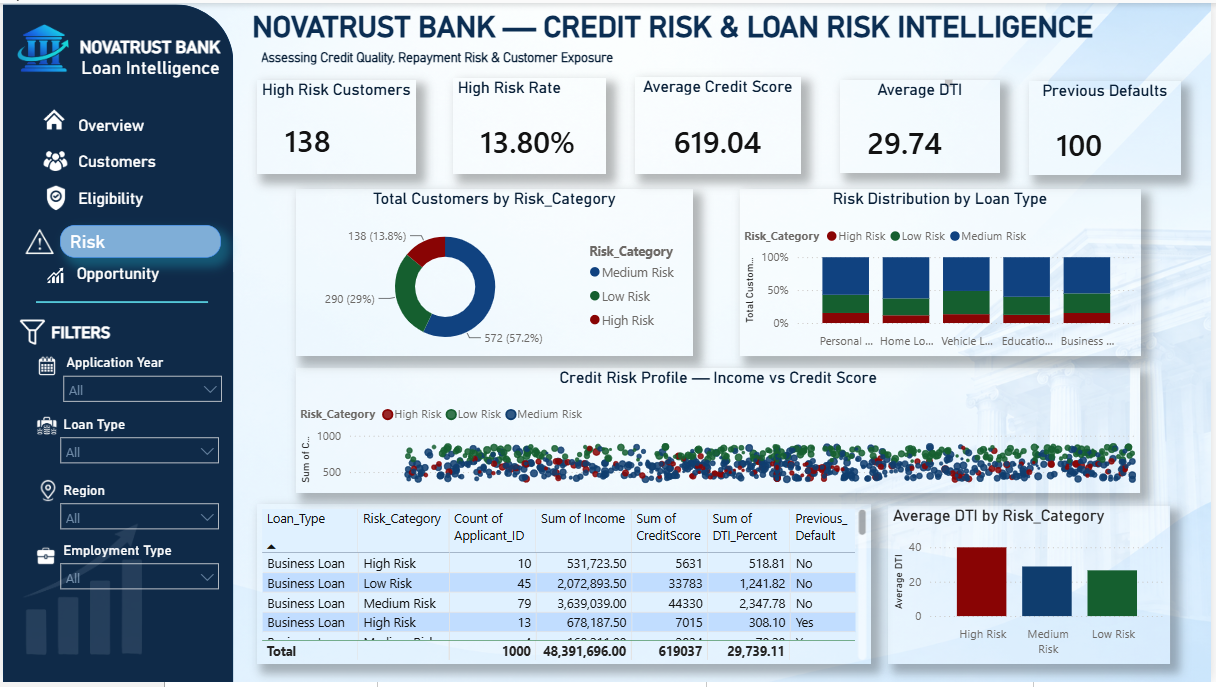

This screenshot's page, from the dashboard's own definition file:
{"tool":"powerbi","page":{"name":"Credit Risk & Loan Risk Intelligence","canvas":[1280,720],"ordinal":3},"visuals":[{"type":"shape","box":[0,0.8,244.2,719.2],"z":0},{"type":"image","box":[9.5,20.7,63.6,55.7],"z":1000},{"type":"textbox","title":"NOVATRUST BANK","box":[73.2,36.6,165.4,20.7],"z":2000},{"type":"textbox","title":"Loan Intelligence","box":[60.4,57.3,192,42.1],"z":3000},{"type":"image","box":[43.1,108.5,22.7,30.8],"z":4000},{"type":"textbox","title":"Risk","box":[59.7,235.5,170.9,34.8],"z":5000},{"type":"image","box":[43.1,153.2,25.5,30.3],"z":6000},{"type":"textbox","title":"Overview","box":[74.5,119.8,155.4,19.4],"z":7000},{"type":"image","box":[38.2,190.8,36.5,33.2],"z":8000},{"type":"textbox","title":"Customers","box":[75,157.9,151.1,25.4],"z":9000},{"type":"image","box":[23.2,235.5,29.9,34.8],"z":10000},{"type":"textbox","title":"Eligibility","box":[74.6,197.4,179.7,25.4],"z":11000},{"type":"image","box":[33.4,275.2,44.5,27],"z":12000},{"type":"textbox","title":"Opportunity","box":[73.2,276.8,147.9,25.4],"z":13000},{"type":"shape","box":[34.8,301.9,182.5,29.9],"z":14000},{"type":"image","box":[16.7,335,30,26.7],"z":15000},{"type":"textbox","title":"FILTERS","box":[46.1,338.8,187.7,28.6],"z":16000},{"type":"image","box":[35,373.3,23.3,21.7],"z":17000},{"type":"slicer","title":"Application Year","fields":{"Values":["Loan_Applications.Application_Date"]},"box":[54.1,367.4,187.7,65.2],"z":18000},{"type":"image","box":[23.3,433.3,45,35],"z":19000},{"type":"slicer","fields":{"Values":["Loan_Applications.Loan_Type"]},"box":[50.9,432.6,187.7,70],"z":20000},{"type":"slicer","fields":{"Values":["Loan_Applications.Region"]},"box":[50.9,502.6,187.7,62],"z":21000},{"type":"slicer","fields":{"Values":["Loan_Applications.Employment_Type"]},"box":[50.9,566.3,187.7,68.4],"z":22000},{"type":"image","box":[31.7,503.3,31.7,28.3],"z":23000},{"type":"image","box":[11.7,553.3,68.4,65.2],"z":24000},{"type":"image","box":[0,518.5,162.7,201],"z":25000},{"type":"textbox","title":" NOVATRUST BANK — CREDIT RISK & LOAN RISK INTELLIGENCE","box":[259.3,6.4,1021.2,50.9],"z":26000},{"type":"textbox","title":"Assessing Credit Quality, Repayment Risk & Customer Exposure","box":[268.8,49.3,742.8,44.5],"z":27000},{"type":"cardVisual","title":"High Risk Rate","fields":{"Data":["Loan_Applications.High Risk Rate"]},"box":[476.5,79.7,162.7,102.1],"z":28000},{"type":"cardVisual","title":"High Risk Customers","fields":{"Data":["Loan_Applications.High Risk Customers"]},"box":[268.8,81.1,169.1,100.5],"z":29000},{"type":"cardVisual","title":"Average Credit Score","fields":{"Data":["Loan_Applications.Average Credit Score"]},"box":[669.6,77.9,176.6,103.4],"z":30000},{"type":"cardVisual","title":"Average DTI","fields":{"Data":["Loan_Applications.Average DTI"]},"box":[887.4,81.5,169.1,98.9],"z":31000},{"type":"cardVisual","title":"Previous Defaults","fields":{"Data":["Loan_Applications.Previous Default Customers"]},"box":[1088,82.7,160.7,100.2],"z":32000},{"type":"donutChart","fields":{"Category":["Loan_Applications.Risk_Category"],"Y":["Loan_Applications.Total Customers"]},"box":[310,196.6,421.6,177.1],"z":33000},{"type":"hundredPercentStackedColumnChart","title":"Risk Distribution by Loan Type","fields":{"Category":["Loan_Applications.Loan_Type"],"Y":["Loan_Applications.Total Customers"],"Series":["Loan_Applications.Risk_Category"]},"box":[781.1,196.6,425.1,177.1],"z":34000},{"type":"scatterChart","title":"Credit Risk Profile — Income vs Credit Score","fields":{"X":["Sum(Loan_Applications.Income)"],"Y":["Sum(Loan_Applications.CreditScore)"],"Series":["Loan_Applications.Risk_Category"],"Category":["Loan_Applications.Applicant_ID"],"Size":["Sum(Loan_Applications.LoanAmount)"]},"box":[310,386.1,896.2,132.8],"z":35000},{"type":"clusteredColumnChart","fields":{"Category":["Loan_Applications.Risk_Category"],"Y":["Loan_Applications.Average DTI"]},"box":[938.8,533.1,299.3,168.3],"z":36000},{"type":"tableEx","fields":{"Values":["Loan_Applications.Loan_Type","Loan_Applications.Risk_Category","CountNonNull(Loan_Applications.Applicant_ID)","Sum(Loan_Applications.Income)","Sum(Loan_Applications.CreditScore)","Sum(Loan_Applications.DTI_Percent)","Loan_Applications.Previous_Default"]},"box":[269.2,531.4,651.8,170],"z":37000},{"type":"actionButton","box":[69.1,267.5,145.2,40.7],"z":38000},{"type":"actionButton","box":[67.3,187.8,147,40.7],"z":39000},{"type":"actionButton","box":[67.3,147,163,40.7],"z":40000},{"type":"actionButton","box":[67.3,108,178.9,40.7],"z":41000}]}

Visuals, with their boxes in screenshot pixels (x1, y1, x2, y2), scaled from the page's 1280x720 canvas onto the 1216x687 screenshot:
shape: 0:1:232:686
image: 9:20:69:73
"NOVATRUST BANK" textbox: 70:35:227:55
"Loan Intelligence" textbox: 57:55:240:95
image: 41:104:63:133
"Risk" textbox: 57:225:219:258
image: 41:146:65:175
"Overview" textbox: 71:114:218:133
image: 36:182:71:214
"Customers" textbox: 71:151:215:175
image: 22:225:50:258
"Eligibility" textbox: 71:188:242:213
image: 32:263:74:288
"Opportunity" textbox: 70:264:210:288
shape: 33:288:206:317
image: 16:320:44:345
"FILTERS" textbox: 44:323:222:351
image: 33:356:55:377
"Application Year" slicer: 51:351:230:413
image: 22:413:65:447
slicer - Loan_Applications.Loan_Type: 48:413:227:480
slicer - Loan_Applications.Region: 48:480:227:539
slicer - Loan_Applications.Employment_Type: 48:540:227:606
image: 30:480:60:507
image: 11:528:76:590
image: 0:495:155:686
" NOVATRUST BANK — CREDIT RISK & LOAN RISK INTELLIGENCE" textbox: 246:6:1215:55
"Assessing Credit Quality, Repayment Risk & Customer Exposure" textbox: 255:47:961:90
"High Risk Rate" cardVisual: 453:76:607:173
"High Risk Customers" cardVisual: 255:77:416:173
"Average Credit Score" cardVisual: 636:74:804:173
"Average DTI" cardVisual: 843:78:1004:172
"Previous Defaults" cardVisual: 1034:79:1186:175
donutChart - Loan_Applications.Risk_Category x Loan_Applications.Total Customers: 294:188:695:357
"Risk Distribution by Loan Type" hundredPercentStackedColumnChart: 742:188:1146:357
"Credit Risk Profile — Income vs Credit Score" scatterChart: 294:368:1146:495
clusteredColumnChart - Loan_Applications.Risk_Category x Loan_Applications.Average DTI: 892:509:1176:669
tableEx - Loan_Applications.Loan_Type x Loan_Applications.Risk_Category: 256:507:875:669
actionButton: 66:255:204:294
actionButton: 64:179:204:218
actionButton: 64:140:219:179
actionButton: 64:103:234:142
